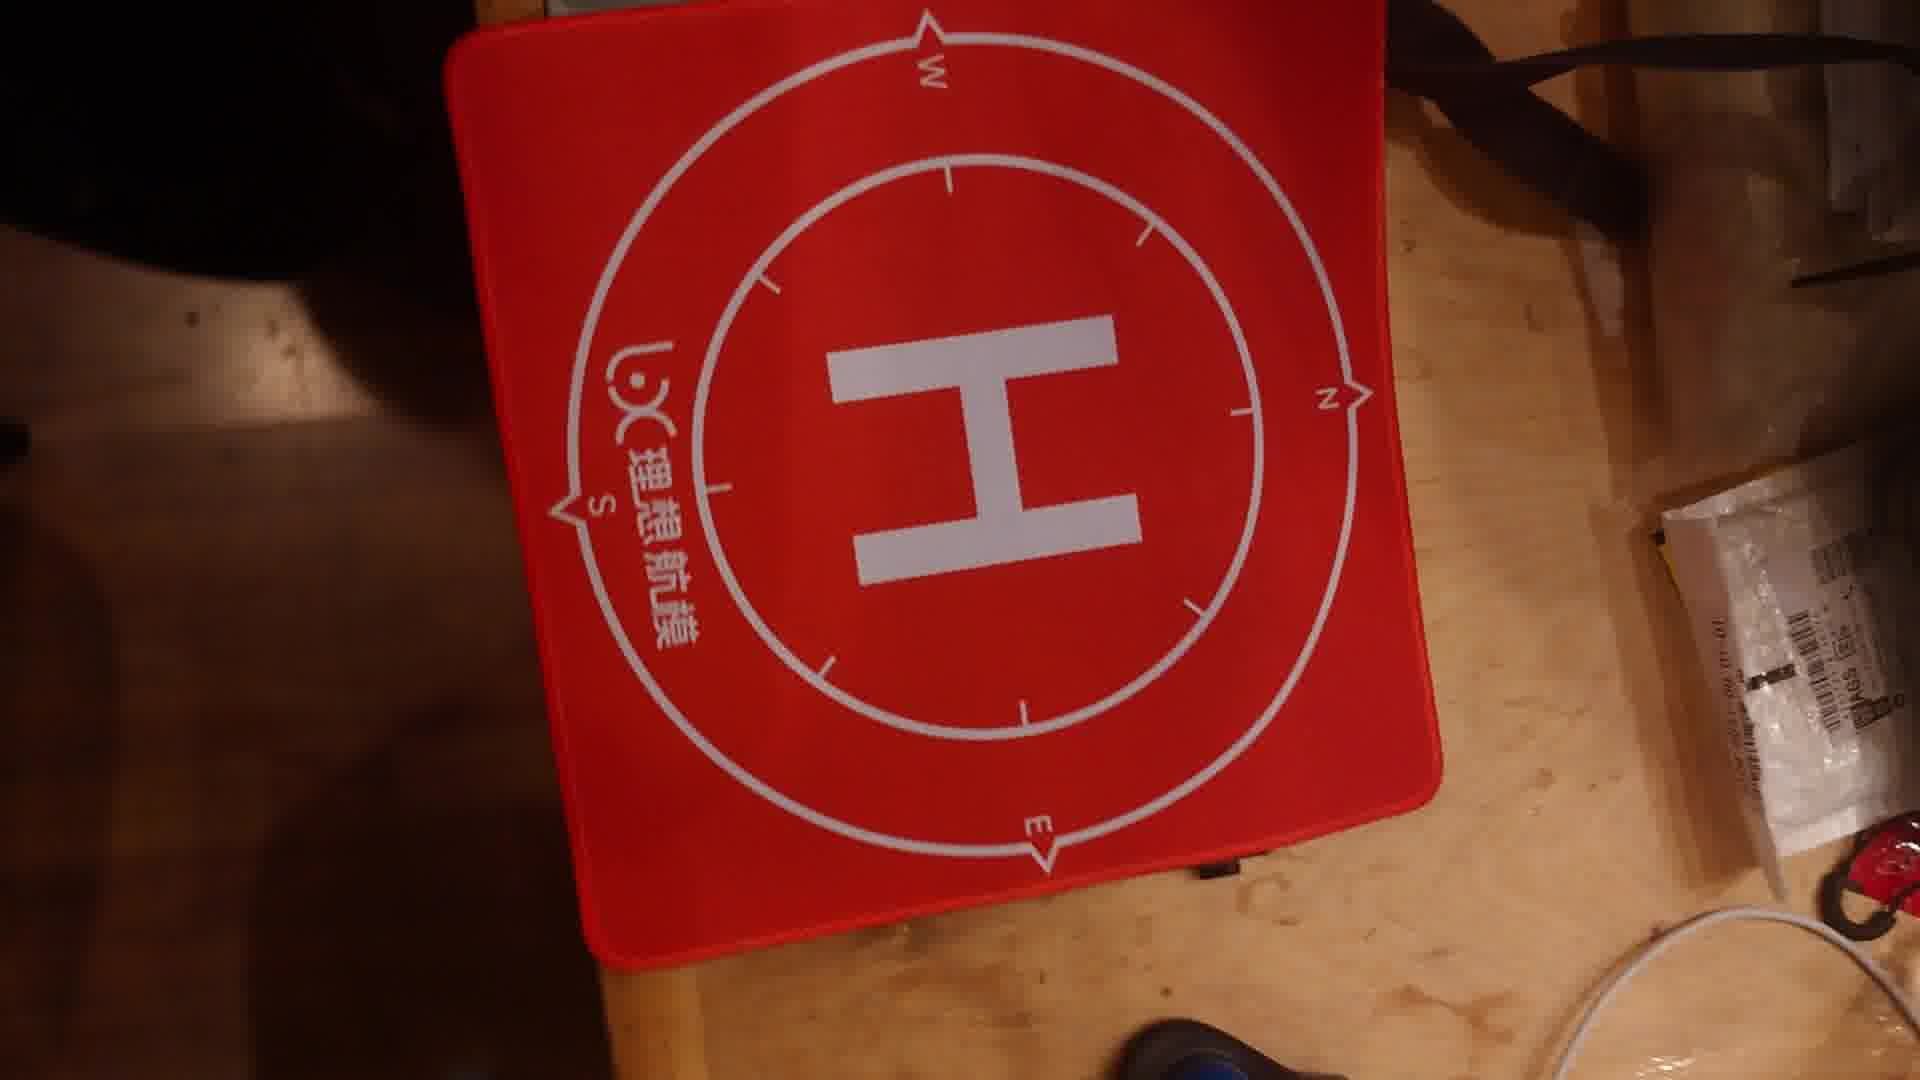H: (822, 313, 1147, 583)
